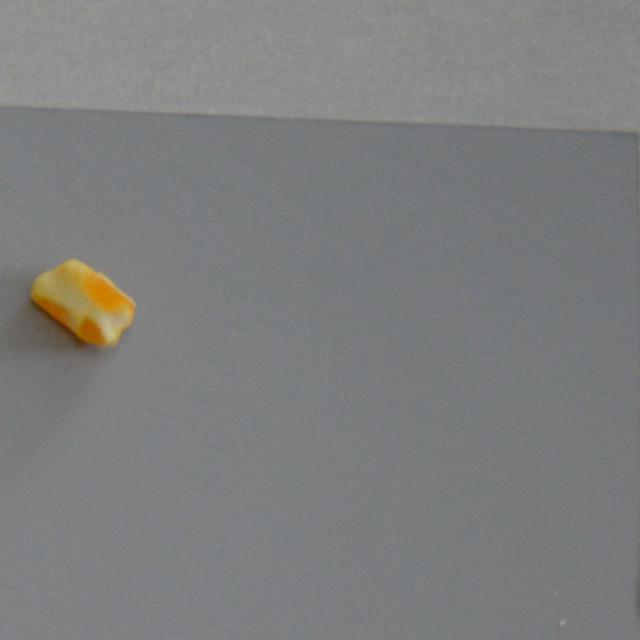dañado: (26, 250, 140, 350)
